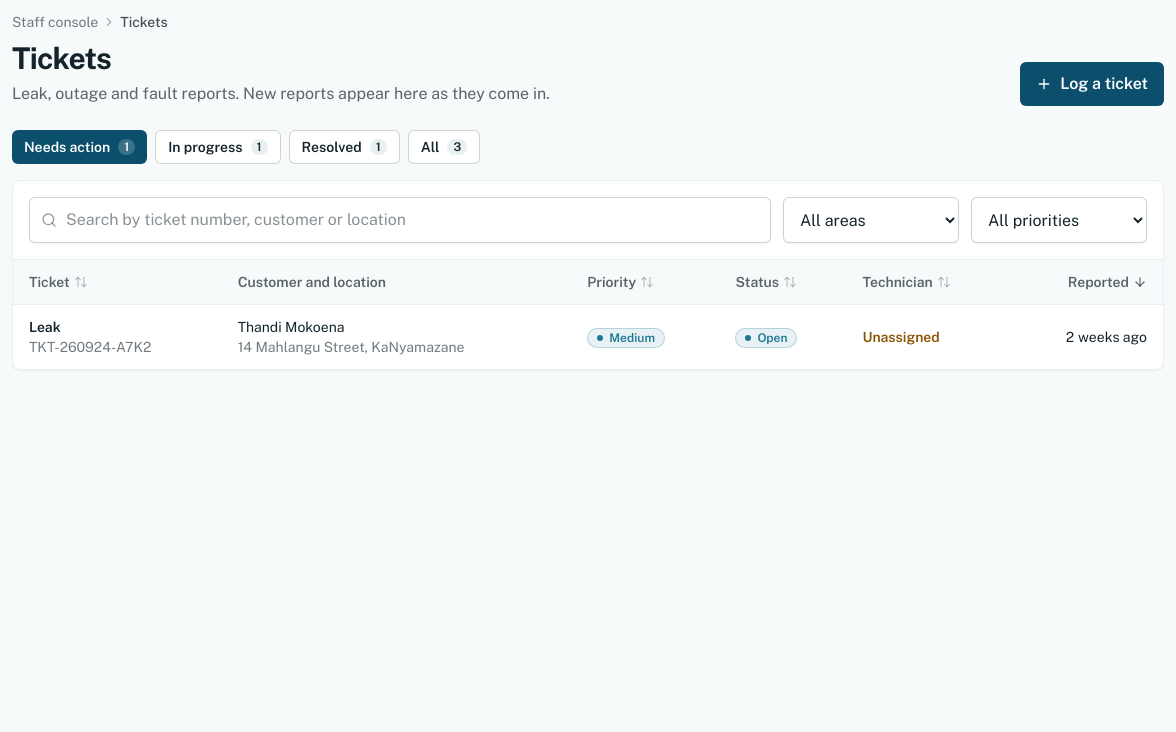
Test case: Ticket queue › switches views and searches by customer
Click the button "All 3" at (444, 147), box x1=408 y1=130 x2=480 y2=164
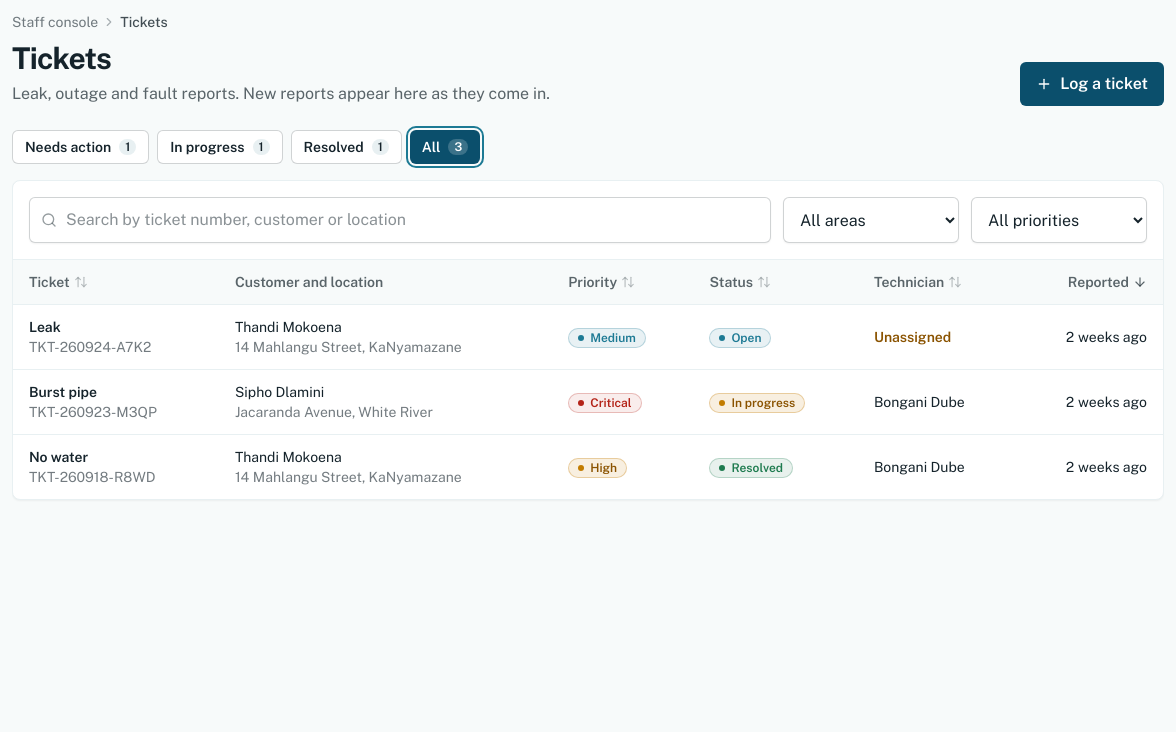
Type "sipho" into the search field at (400, 220), box x1=29 y1=197 x2=771 y2=243
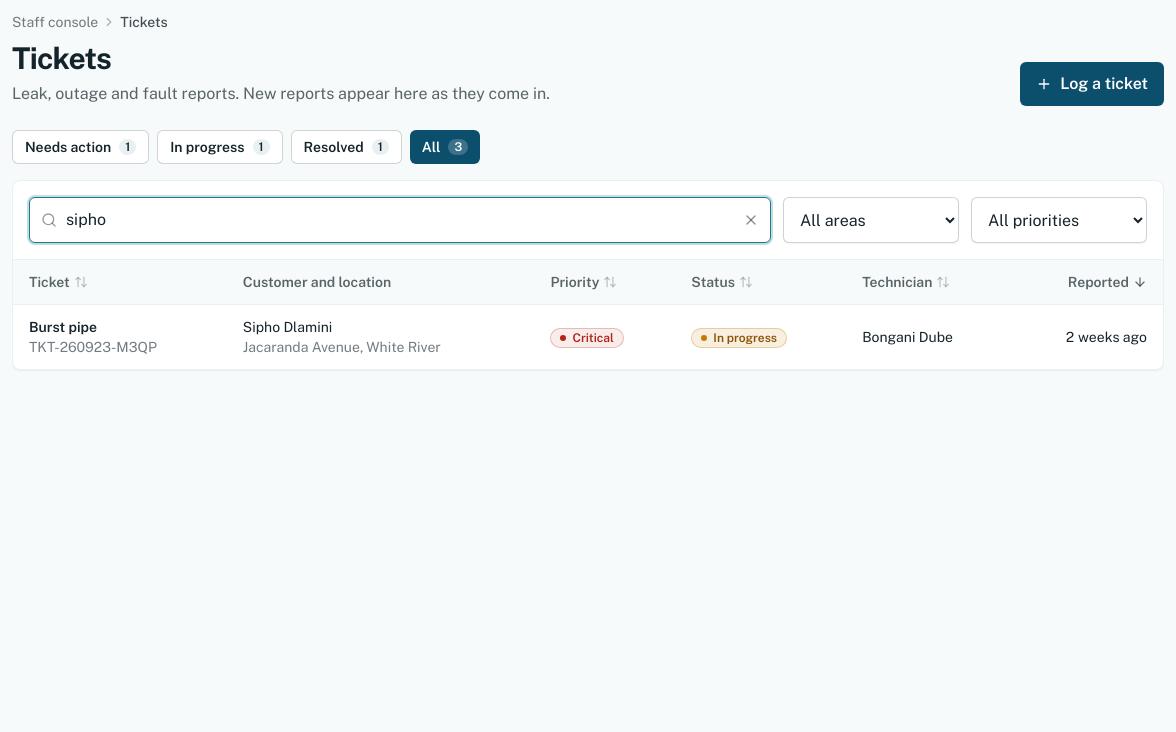
Expected: the text "TKT-260923-M3QP" is shown, x1=29 y1=337 x2=157 y2=357
Expected: the button "TKT-260924-A7K2" is gone
